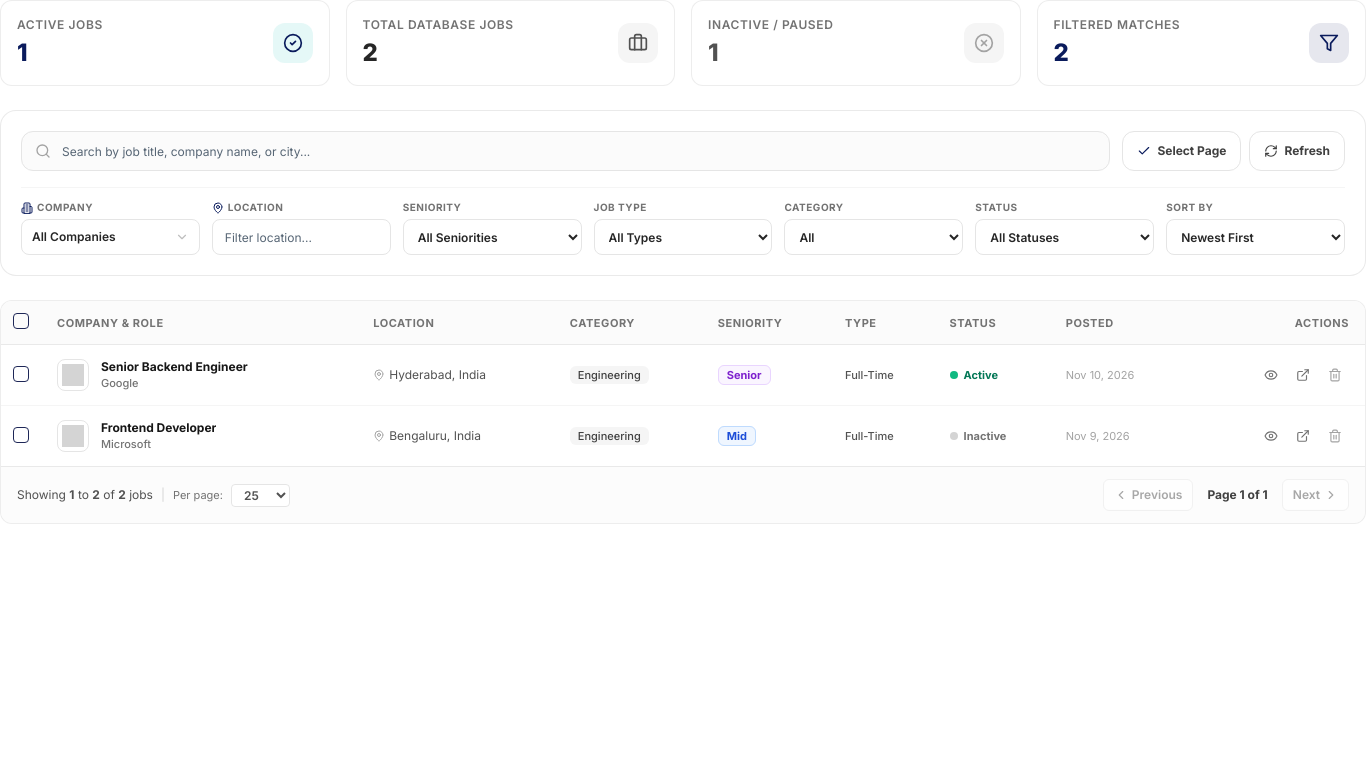
Admin JobsTab Component › handles row checkbox selection and bulk delete confirmation
The image size is (1366, 768).
Later steps or results of the test are not shown.
Check: the button "Senior Backend Engineer" is shown, box x1=101 y1=359 x2=248 y2=375
# Select the first job
Click the checkbox named "Select job". click: (21, 374)
box: x1=13 y1=366 x2=29 y2=382
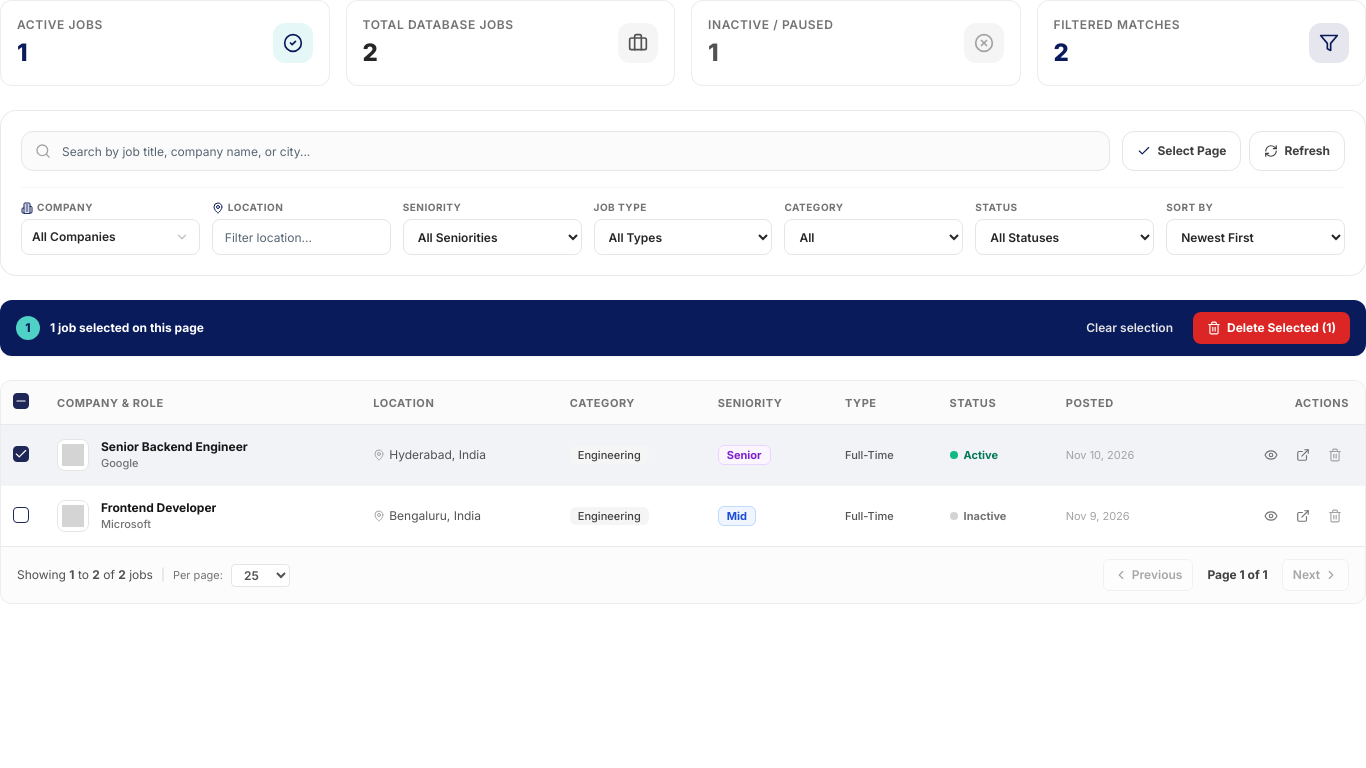
Check: the text "1 job selected on this page" is shown, box x1=50 y1=320 x2=204 y2=336
Check: the button "Delete Selected (1)" is shown
# Click "Delete Selected (1)" to open dialog
Click the button "Delete Selected (1)". click: (1272, 328)
box: x1=1193 y1=312 x2=1350 y2=344
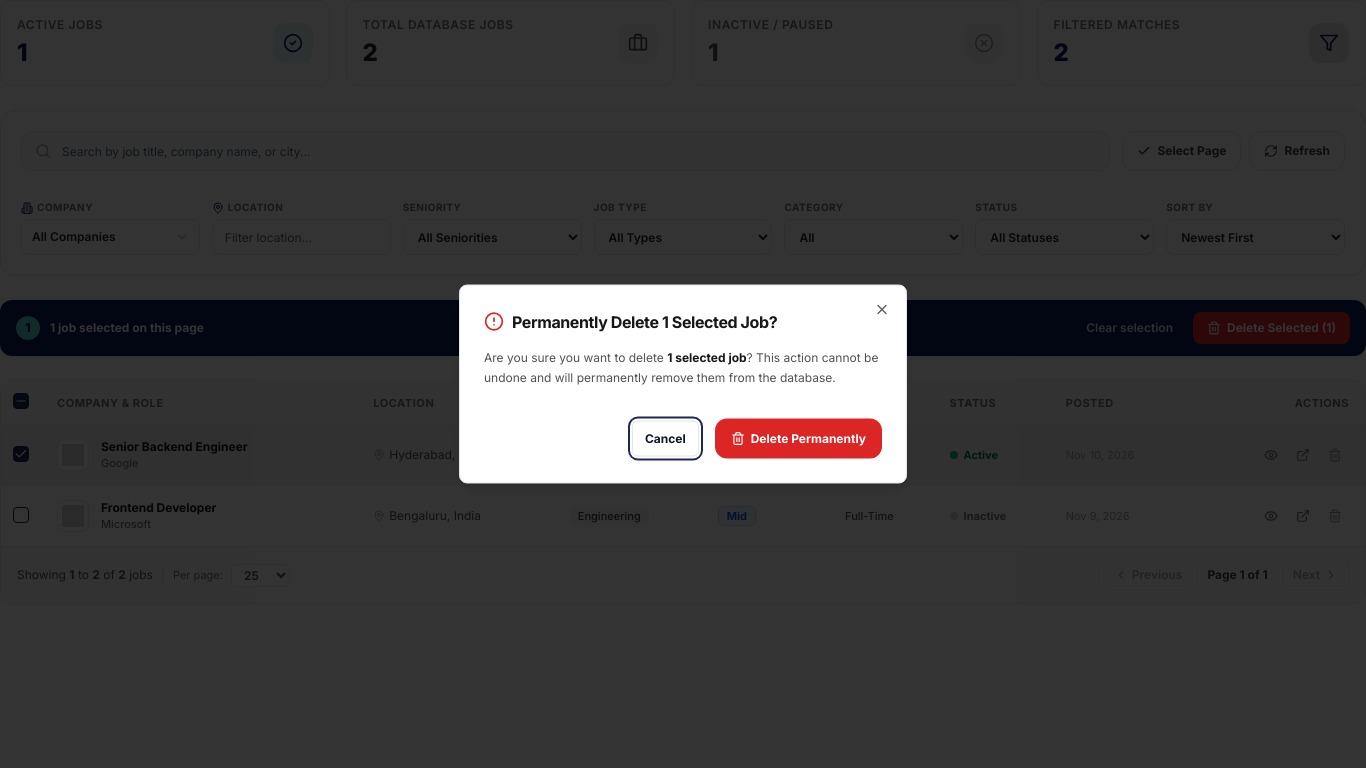
Check: the heading "Permanently Delete 1 Selected Job?" is shown, box x1=484 y1=312 x2=777 y2=332
